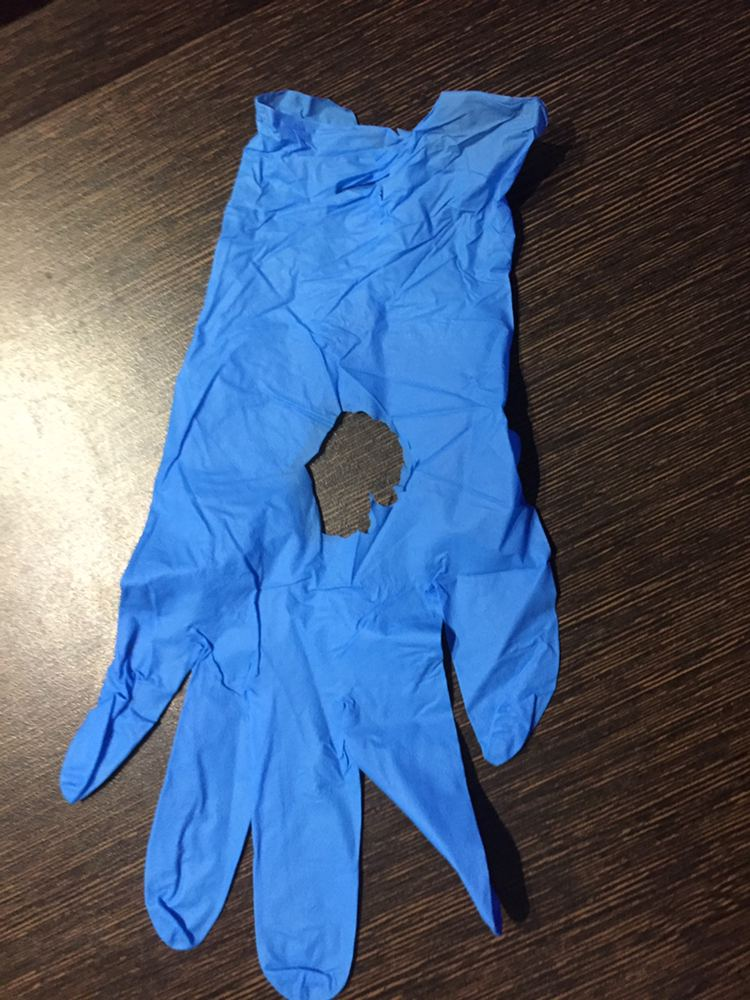defected: (54, 86, 654, 992)
